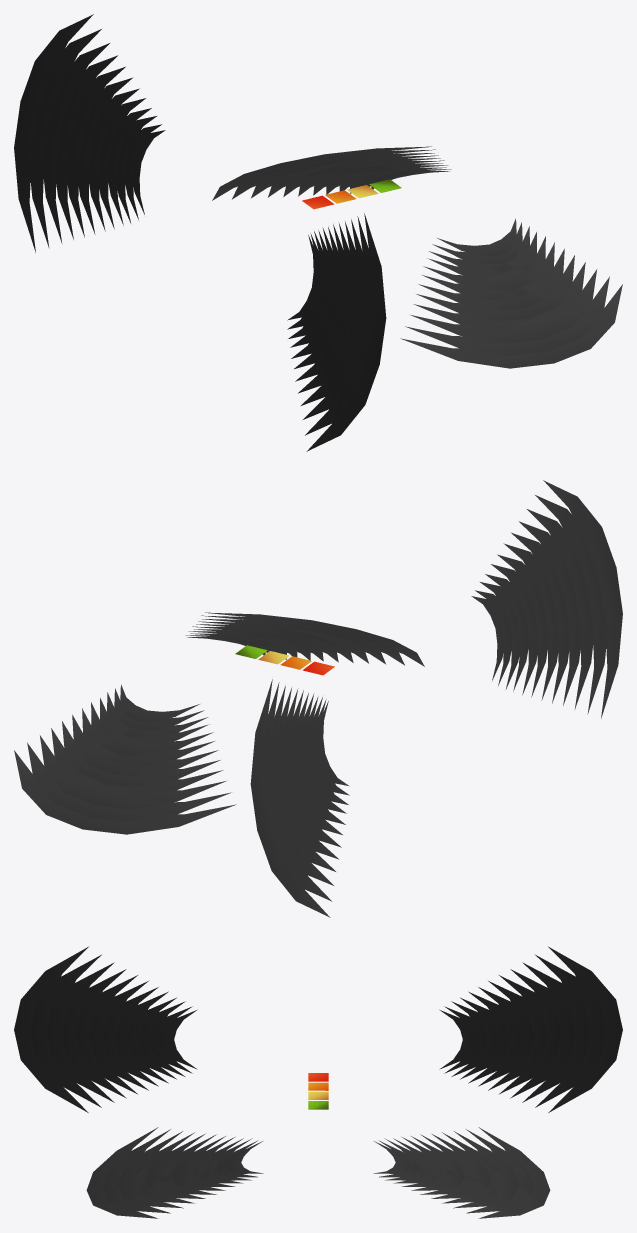
File: StarterPackSoundwaves_menu.glb
3 renders of one model, top to bottom at view 1: azimuth 30°, elevation 25°; view 2: azimuth 150°, elevation 25°; view 3: azimuth 270°, elevation 25°, orthographic. The views are drawn at different scales.
Visible parts, largest first — view 1: soundWaveEdge12, soundWaveEdge10, soundWaveEdge11, soundWaveEdge8, soundWaveEdge9, soundWaveEdge7, soundWaveEdge6, soundWaveEdge5, soundWaveEdge4, soundWaveEdge3, soundWaveEdge2, soundWaveEdge1; view 2: soundWaveEdge12, soundWaveEdge10, soundWaveEdge11, soundWaveEdge8, soundWaveEdge7, soundWaveEdge9, soundWaveEdge6, soundWaveEdge5, soundWaveEdge4, soundWaveEdge3, soundWaveEdge2, soundWaveEdge1; view 3: soundWaveEdge12, soundWaveEdge11, soundWaveEdge10, soundWaveEdge8, soundWaveEdge9, soundWaveEdge6, soundWaveEdge7, soundWaveEdge5, soundWaveEdge4, soundWaveEdge3, soundWaveEdge1, soundWaveEdge2.
Part boxes in pixels (x1,y1,x2,y2): soundWaveEdge12: (14, 14, 622, 451); soundWaveEdge10: (43, 43, 596, 419); soundWaveEdge11: (30, 29, 609, 435); soundWaveEdge8: (68, 66, 574, 393); soundWaveEdge9: (56, 55, 585, 405); soundWaveEdge7: (78, 77, 564, 381); soundWaveEdge6: (89, 88, 554, 368); soundWaveEdge5: (99, 98, 545, 358); soundWaveEdge4: (108, 108, 536, 347); soundWaveEdge3: (117, 116, 529, 338); soundWaveEdge2: (125, 124, 522, 329); soundWaveEdge1: (133, 130, 516, 320); soundWaveEdge12: (14, 480, 622, 917); soundWaveEdge10: (40, 509, 593, 885); soundWaveEdge11: (27, 495, 606, 901); soundWaveEdge8: (62, 532, 568, 859); soundWaveEdge7: (72, 543, 558, 847); soundWaveEdge9: (51, 521, 580, 871); soundWaveEdge6: (82, 554, 547, 834); soundWaveEdge5: (91, 564, 537, 824); soundWaveEdge4: (100, 574, 528, 813); soundWaveEdge3: (107, 582, 519, 804); soundWaveEdge2: (114, 590, 511, 795); soundWaveEdge1: (120, 596, 503, 786); soundWaveEdge12: (14, 946, 622, 1218); soundWaveEdge11: (30, 954, 606, 1213); soundWaveEdge10: (46, 962, 590, 1208); soundWaveEdge8: (75, 975, 561, 1198); soundWaveEdge9: (61, 969, 575, 1203); soundWaveEdge6: (102, 987, 534, 1190); soundWaveEdge7: (89, 981, 547, 1194); soundWaveEdge5: (114, 991, 522, 1186); soundWaveEdge4: (127, 997, 509, 1183); soundWaveEdge3: (138, 1001, 498, 1180); soundWaveEdge1: (158, 1009, 478, 1173); soundWaveEdge2: (149, 1006, 487, 1177).
Size of the model in its own units: 7.61 by 4.59 by 13.23.
2 materials, 2 textured.
